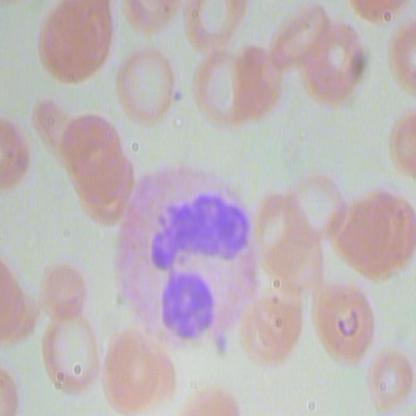RBC: (102, 329, 182, 416), (307, 273, 378, 367), (36, 1, 113, 86), (296, 18, 370, 101), (115, 42, 181, 127), (42, 308, 108, 393), (192, 43, 256, 128), (366, 342, 415, 415), (40, 256, 90, 314)
WBC: (105, 157, 259, 350)
